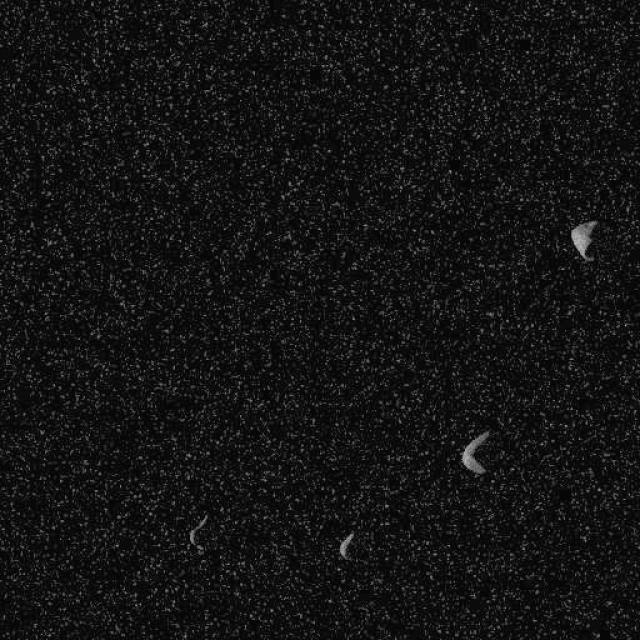D2: (460, 428, 491, 477), (569, 219, 599, 261), (186, 512, 209, 554), (337, 530, 355, 560)
